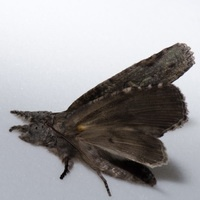insect: (10, 43, 194, 195)
